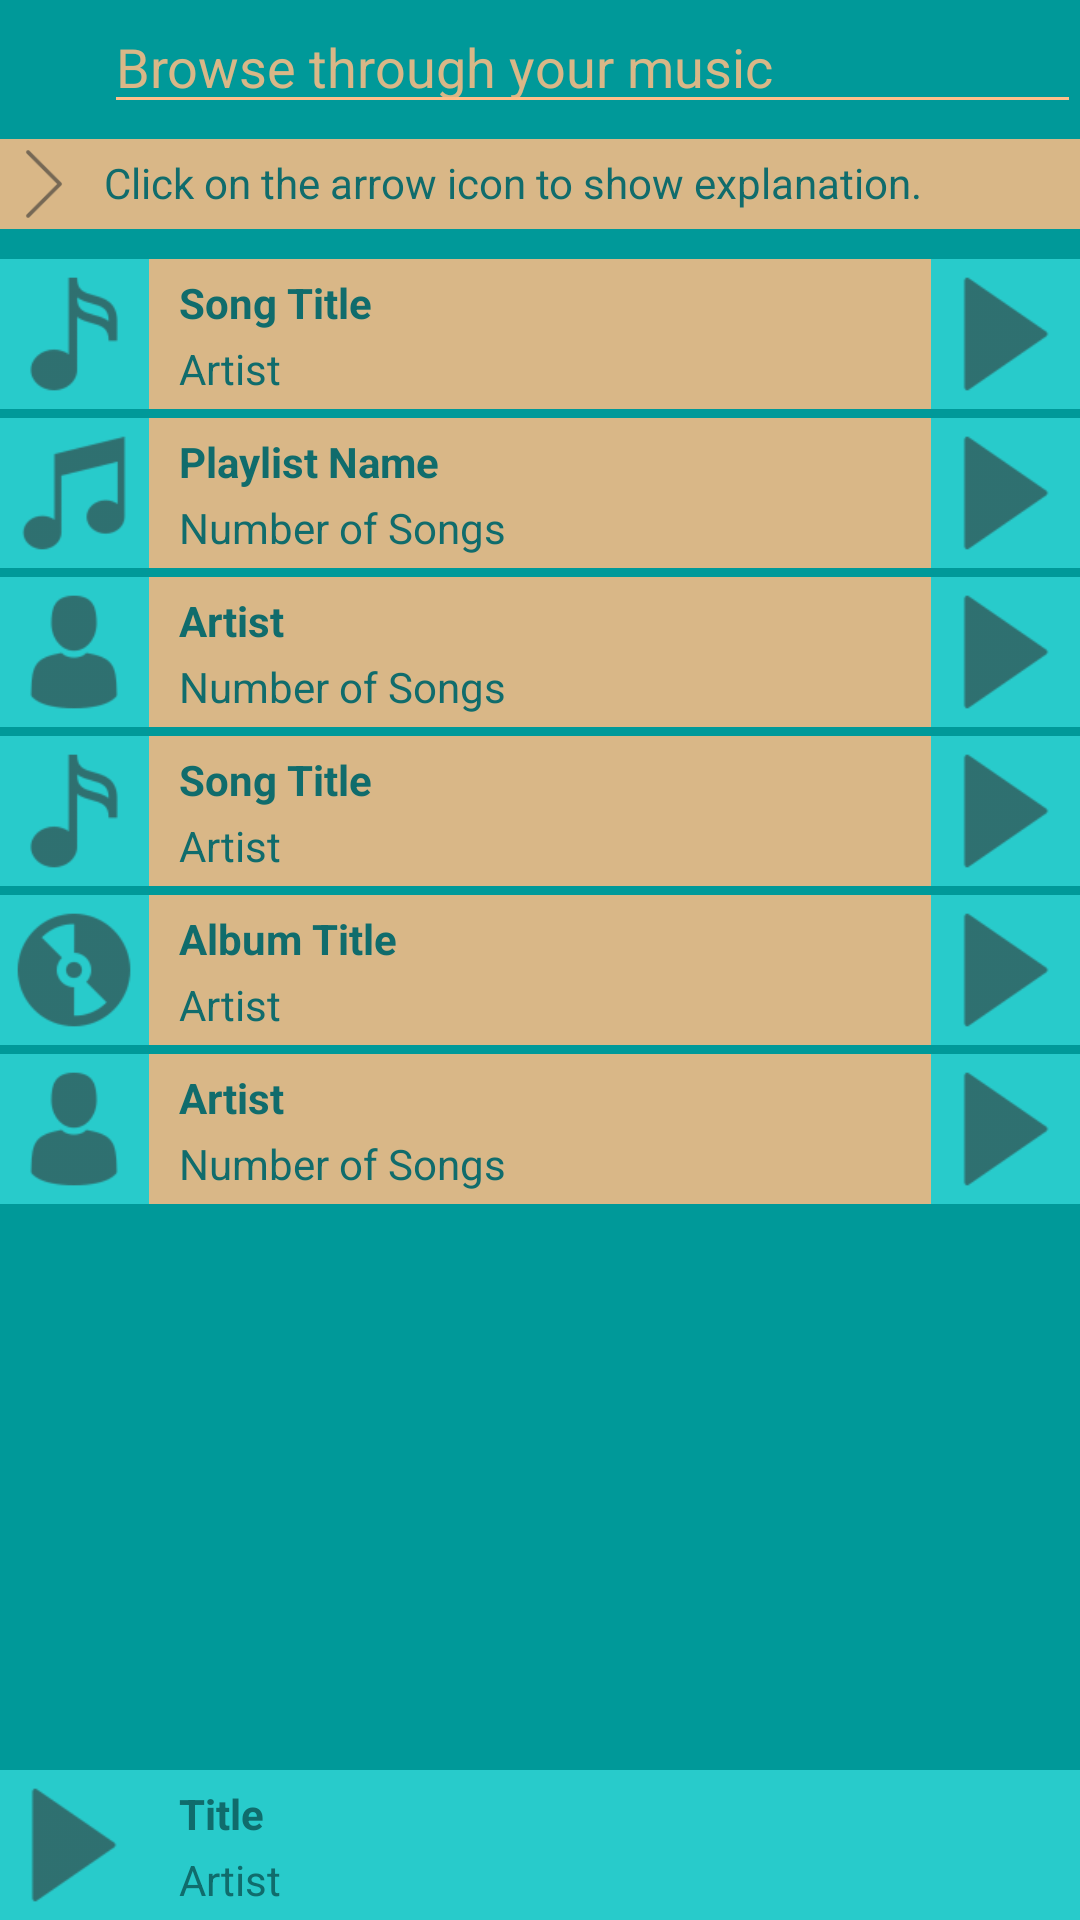

Point at icon controls on the screen. Image size 1080x1920, points as (x,y).
arrow side: (44,184)
play: (1005,334), (1005,493), (1005,652), (1005,811), (1005,970), (1005,1129), (74,1845)
